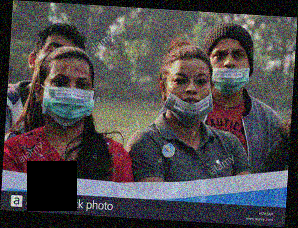mask_weared_incorrect: (166, 68, 211, 125), (207, 44, 252, 95)
with_mask: (42, 71, 93, 126)
